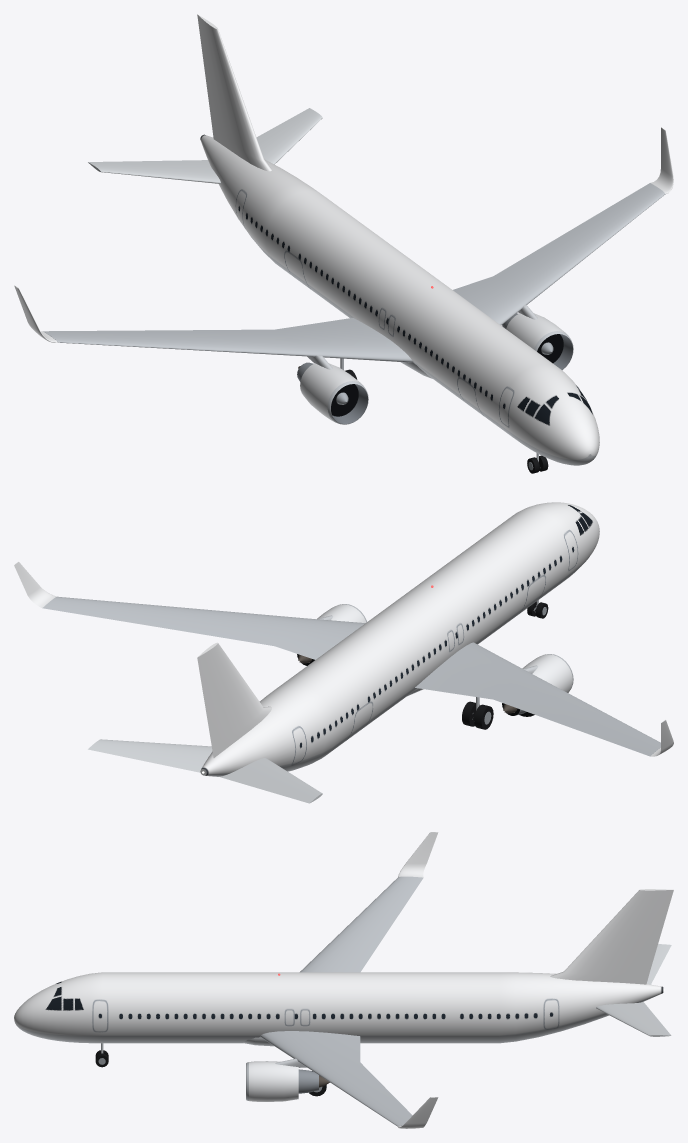
3 views of the same model, one above another, from view 1: azimuth 30°, elevation 25°; view 2: azimuth 150°, elevation 25°; view 3: azimuth 270°, elevation 25° (orthographic). The views are drawn at different scales.
Parts seen in each view (by area): view 1: body; view 2: body, gear; view 3: body.
Part boxes in pixels (left/top/right/bottom): body: left=14, top=14, right=673, bottom=465; body: left=14, top=502, right=673, bottom=803; gear: left=462, top=600, right=548, bottom=729; body: left=14, top=832, right=673, bottom=1128.
Size of the model in its own units: 36.33 by 11.16 by 38.19.
Materials: 19 (1 with a texture image).
